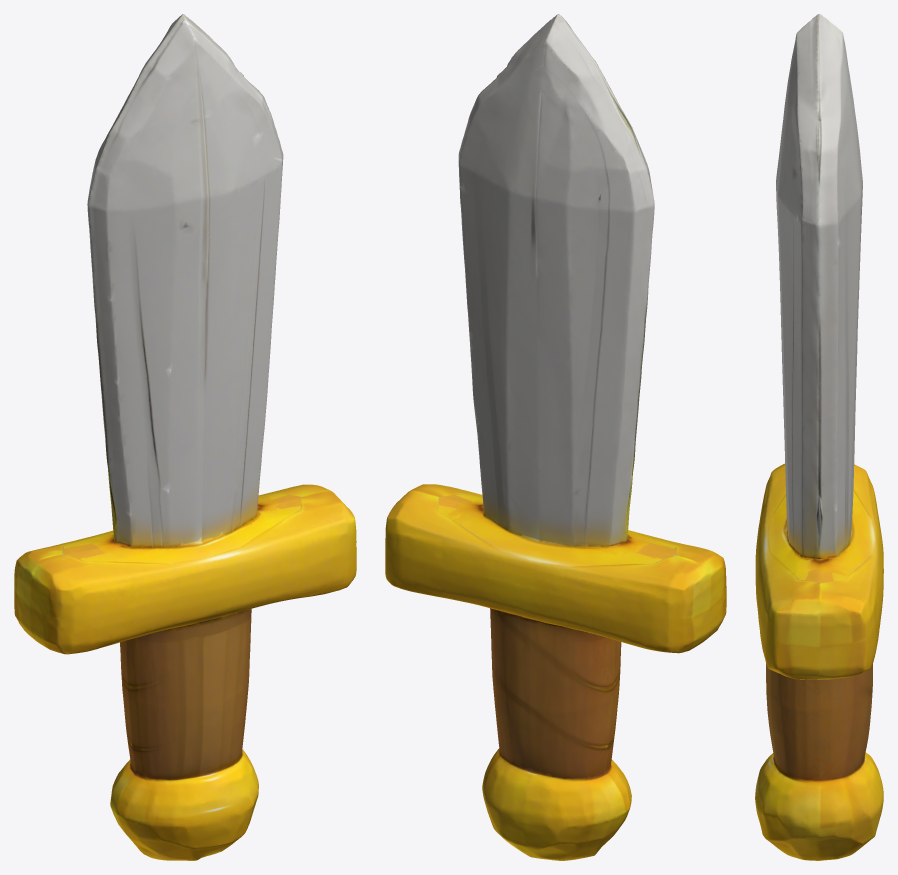
Rendered from sword.glb.
3 renders of one model, left to right at view 1: azimuth 30°, elevation 25°; view 2: azimuth 150°, elevation 25°; view 3: azimuth 270°, elevation 25°, orthographic.
Bounding box in the file's own units: 0.7725 × 2 × 0.2785.
1 material, 1 textured.
